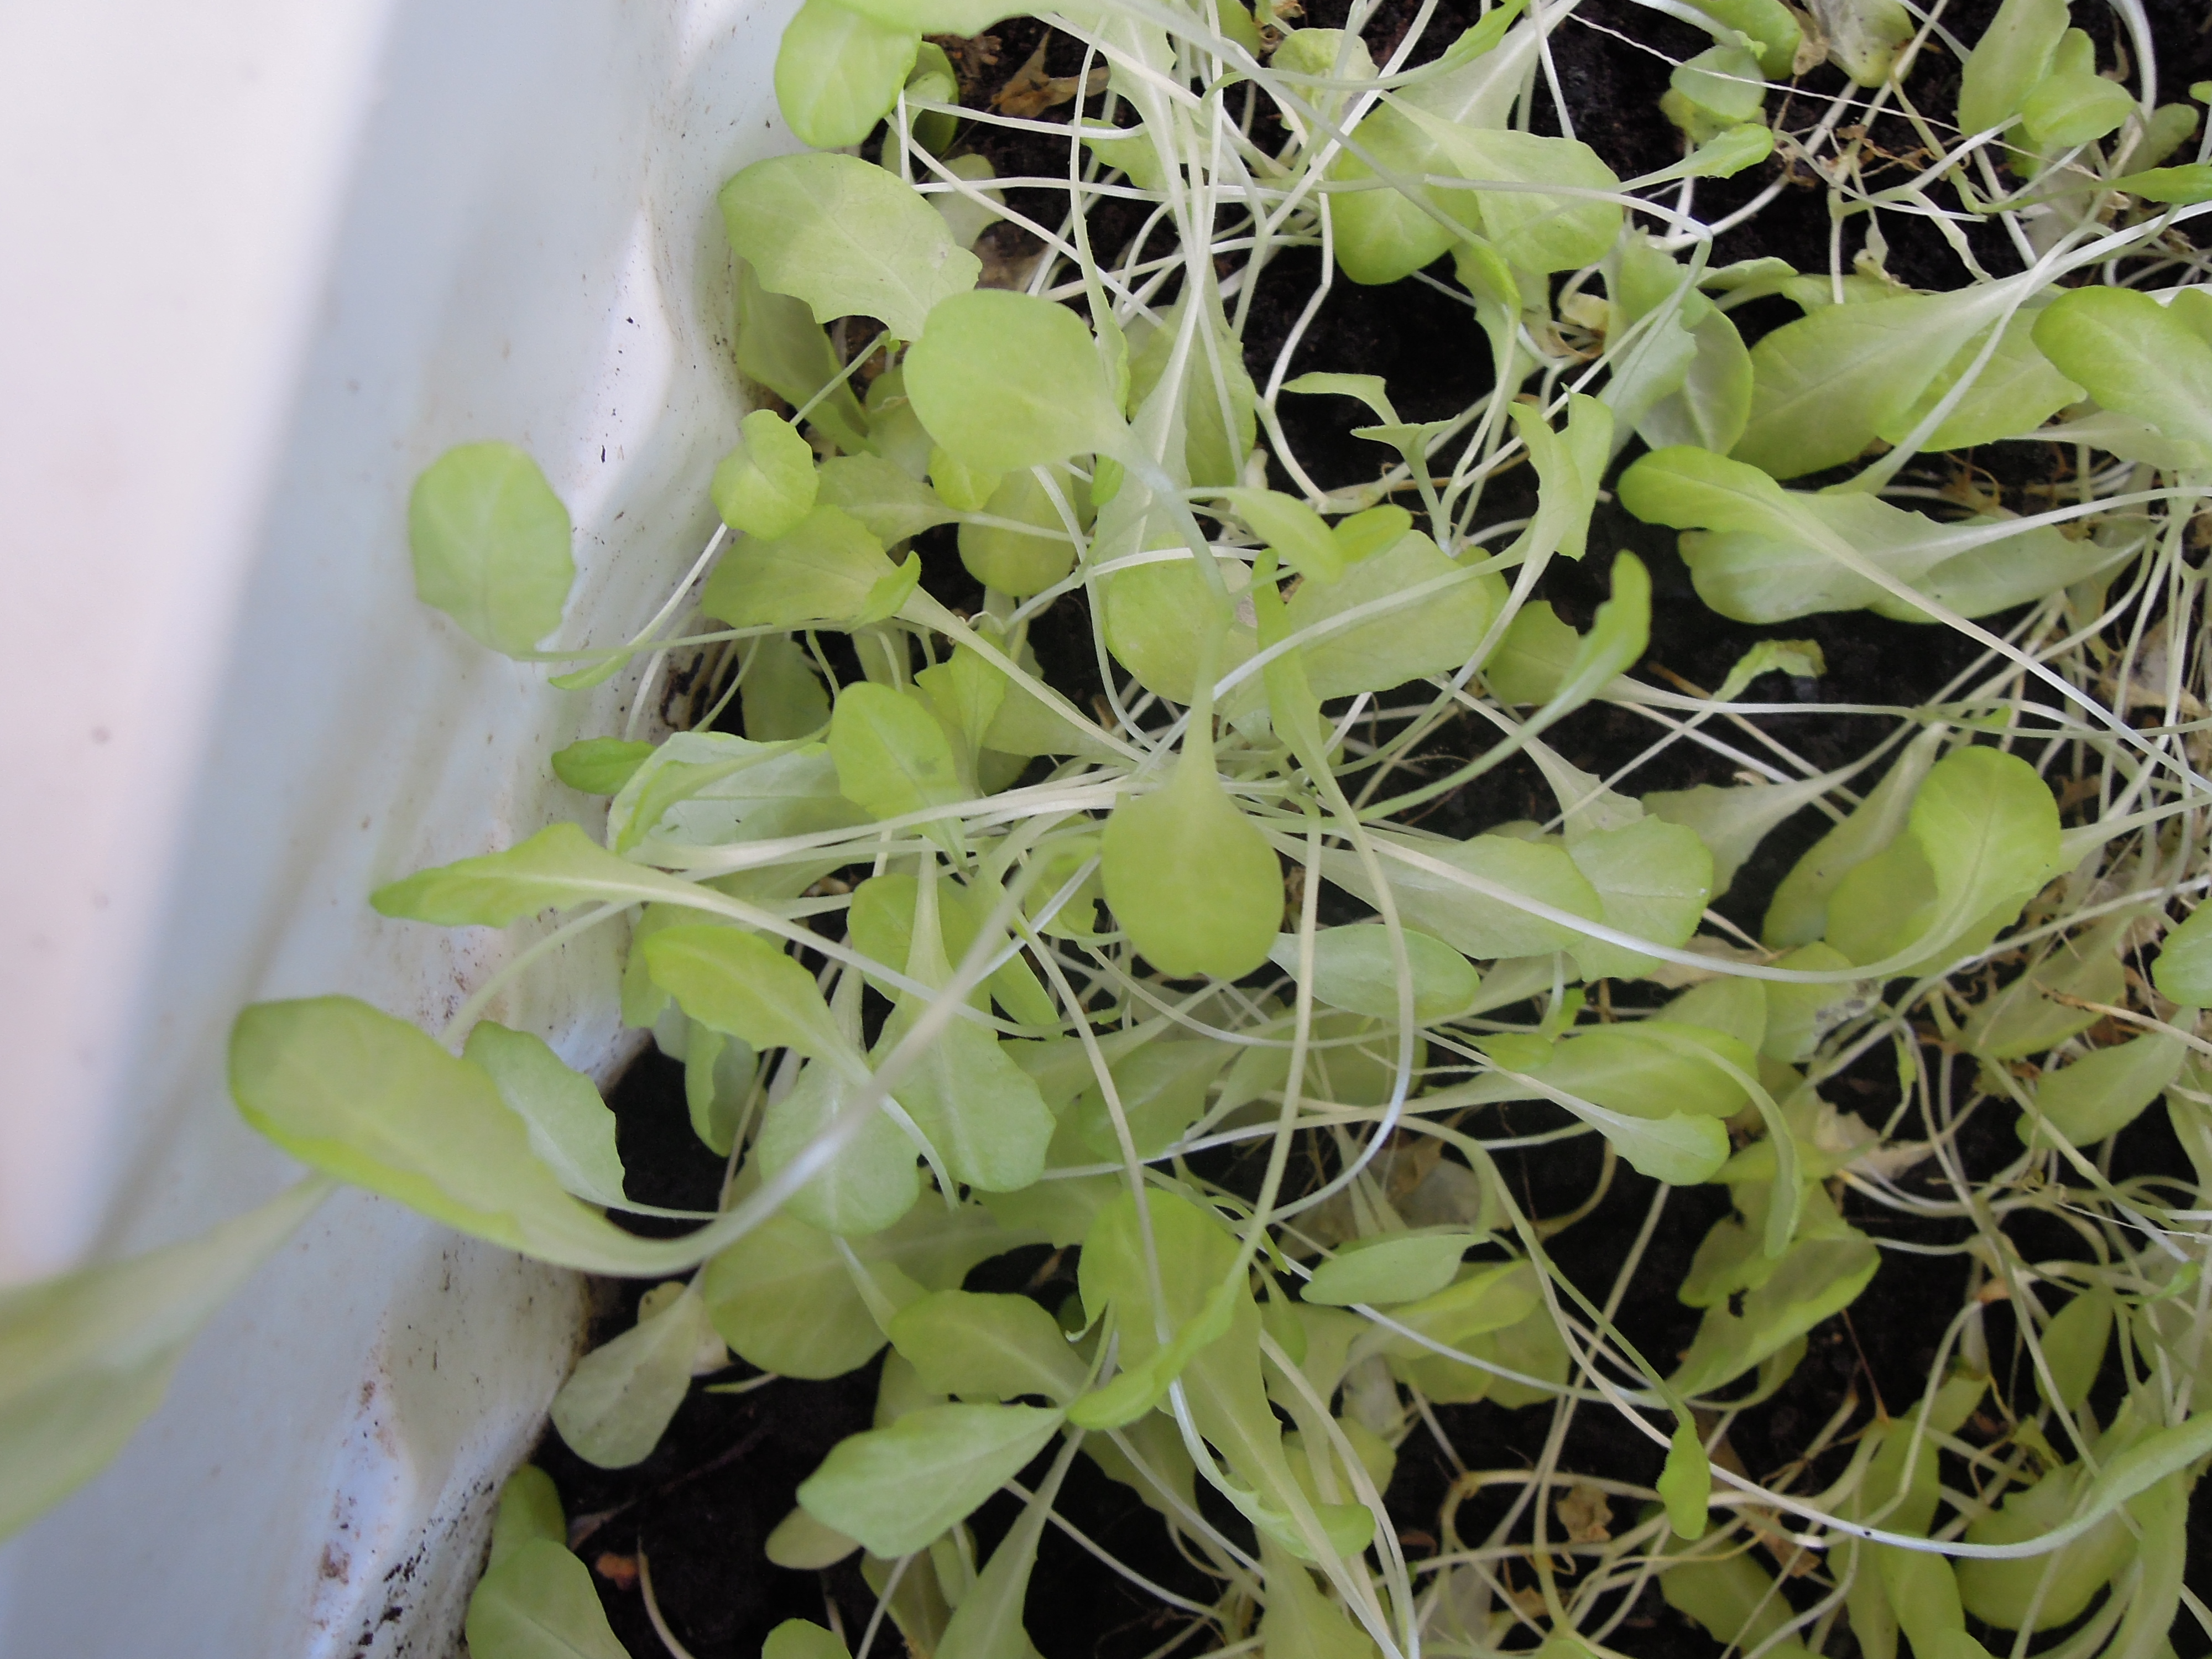weeek6: (186, 173, 2083, 1473)
